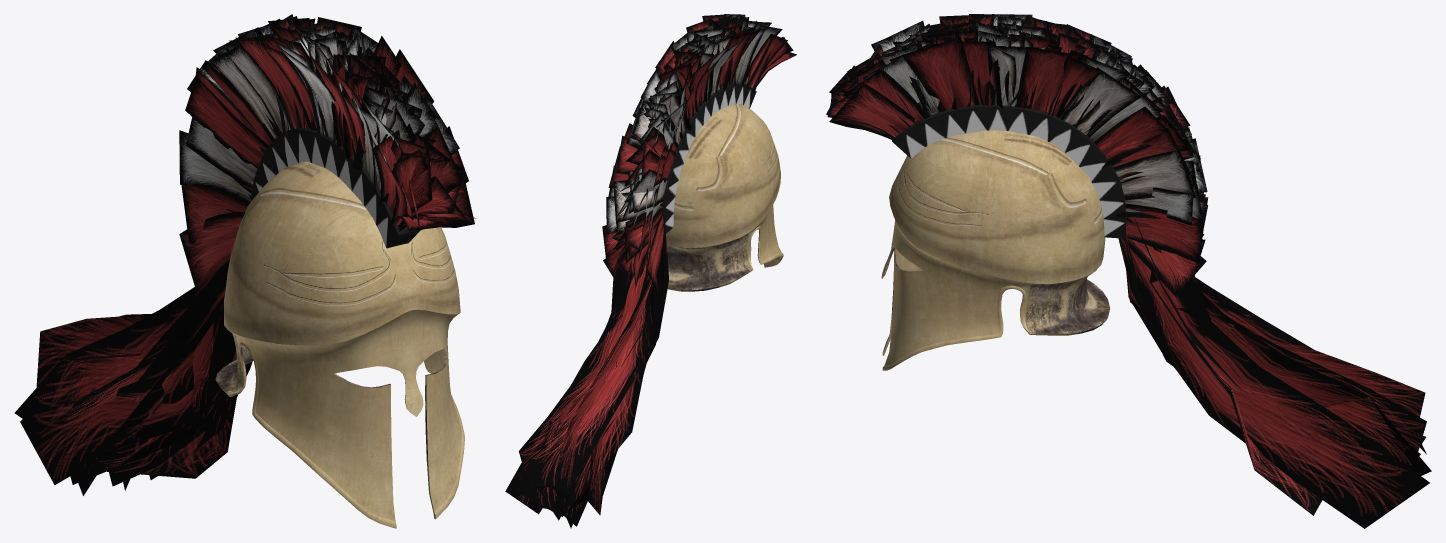
Rendered from HelmetTX.obj.
The picture shows the model from 3 angles, left to right: view 1: azimuth 30°, elevation 25°; view 2: azimuth 150°, elevation 25°; view 3: azimuth 270°, elevation 25°; orthographic projection. The views are drawn at different scales.
Visible parts, largest first — view 1: object_3, object_2, object_1; view 2: object_3, object_2, object_1; view 3: object_3, object_2, object_1.
Boxes of the visible parts, x1=… form: object_3: x1=14, y1=14, x2=475, y2=495; object_2: x1=215, y1=161, x2=464, y2=528; object_1: x1=250, y1=128, x2=420, y2=248; object_3: x1=505, y1=14, x2=796, y2=528; object_2: x1=666, y1=104, x2=783, y2=291; object_1: x1=662, y1=83, x2=756, y2=233; object_3: x1=826, y1=14, x2=1431, y2=528; object_2: x1=881, y1=130, x2=1109, y2=370; object_1: x1=892, y1=104, x2=1126, y2=238.
Size of the model in its own units: 0.1702 by 0.5247 by 0.5867.
Materials: 3 (3 with a texture image).
